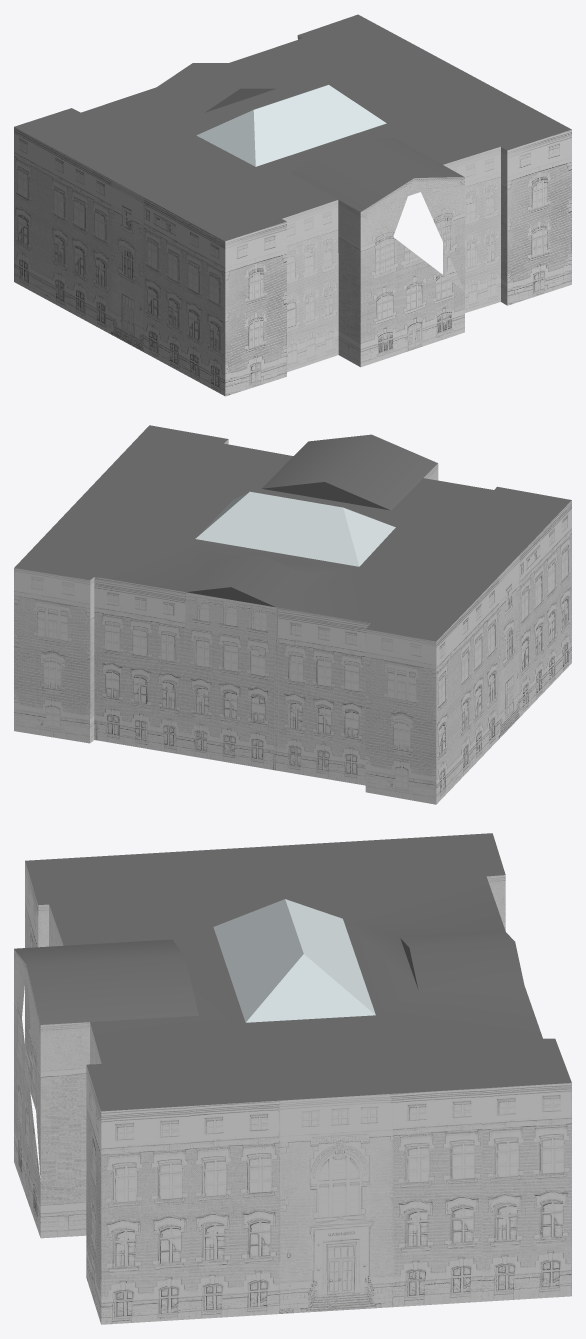
Rendered from Goerges-Bau.gltf.
3 renders of one model, top to bottom at view 1: azimuth 30°, elevation 25°; view 2: azimuth 150°, elevation 25°; view 3: azimuth 270°, elevation 25°, orthographic. The views are drawn at different scales.
Parts seen in each view (by area): view 1: Dach.1; view 2: Dach.1; view 3: Dach.1.
Boxes of the visible parts, x1,y1,x2,y2 form: Dach.1: (14,14,571,396); Dach.1: (14,425,571,804); Dach.1: (14,833,571,1324).
Bounding box in the file's own units: 53.21 × 22.95 × 45.04.
Materials: 11 (9 with a texture image).
